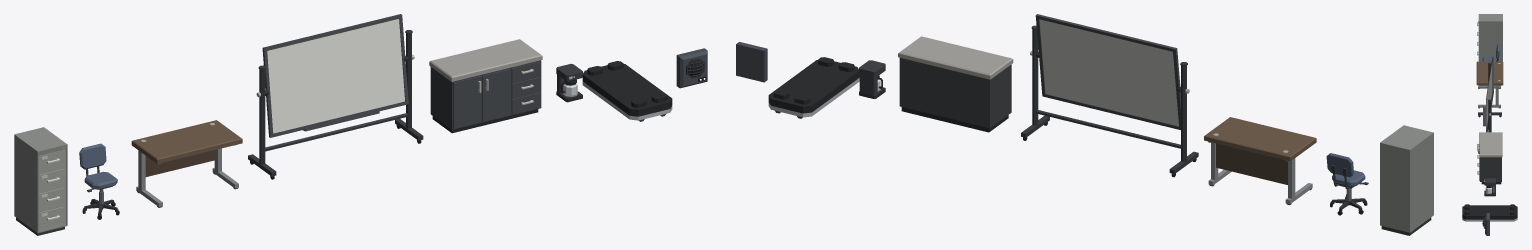
The model's file is OfficeFurniture.fbx.
3 renders of one model, left to right at view 1: azimuth 30°, elevation 25°; view 2: azimuth 150°, elevation 25°; view 3: azimuth 270°, elevation 25°, orthographic. The views are drawn at different scales.
Parts seen in each view (by area): view 1: Whiteboard_Board, OfficeCounter_Doors, FilingCabinet_Carcass, TubeLight_Housing, OfficeDesk_Top, OfficeCounter_Top, Whiteboard_Stand, Whiteboard_Frame, OfficeCounter_Carcass, OfficeChair_Pad, OfficeDesk_Modesty, OfficeDesk_Frame (+8 smaller); view 2: Whiteboard_Board, OfficeCounter_Carcass, FilingCabinet_Carcass, TubeLight_Housing, OfficeDesk_Top, OfficeCounter_Top, Whiteboard_Stand, Whiteboard_Frame, OfficeDesk_Modesty, WallSpeaker_Body, OfficeDesk_Frame, OfficeChair_Pad (+3 smaller); view 3: FilingCabinet_Carcass, TubeLight_Housing, OfficeCounter_Top, OfficeDesk_Top, OfficeCounter_Carcass, Whiteboard_Frame, Whiteboard_Stand, Whiteboard_Board, OfficeDesk_Frame, TubeLight_Tray, CoffeeMachine_Body, OfficeChair_Pad (+4 smaller).
Boxes of the visible parts, bbox=[...] form: Whiteboard_Board: bbox=[267, 19, 404, 133]; OfficeCounter_Doors: bbox=[453, 61, 540, 128]; FilingCabinet_Carcass: bbox=[14, 127, 67, 232]; TubeLight_Housing: bbox=[582, 61, 672, 116]; OfficeDesk_Top: bbox=[131, 120, 242, 163]; OfficeCounter_Top: bbox=[429, 39, 542, 81]; Whiteboard_Stand: bbox=[248, 30, 423, 176]; Whiteboard_Frame: bbox=[262, 14, 408, 137]; OfficeCounter_Carcass: bbox=[430, 60, 541, 129]; OfficeChair_Pad: bbox=[79, 143, 117, 189]; OfficeDesk_Modesty: bbox=[145, 149, 216, 176]; OfficeDesk_Frame: bbox=[136, 144, 238, 206]; Whiteboard_Board: bbox=[1039, 19, 1178, 126]; OfficeCounter_Carcass: bbox=[899, 58, 1011, 128]; FilingCabinet_Carcass: bbox=[1380, 125, 1433, 232]; TubeLight_Housing: bbox=[768, 57, 859, 113]; OfficeDesk_Top: bbox=[1204, 117, 1316, 161]; OfficeCounter_Top: bbox=[898, 36, 1013, 79]; Whiteboard_Stand: bbox=[1021, 25, 1198, 174]; Whiteboard_Frame: bbox=[1035, 14, 1180, 129]; OfficeDesk_Modesty: bbox=[1216, 143, 1287, 184]; WallSpeaker_Body: bbox=[736, 42, 767, 82]; OfficeDesk_Frame: bbox=[1208, 141, 1312, 204]; OfficeChair_Pad: bbox=[1326, 153, 1365, 186]; FilingCabinet_Carcass: bbox=[1478, 14, 1502, 61]; TubeLight_Housing: bbox=[1462, 204, 1517, 219]; OfficeCounter_Top: bbox=[1479, 132, 1502, 157]; OfficeDesk_Top: bbox=[1476, 61, 1503, 85]; OfficeCounter_Carcass: bbox=[1480, 157, 1501, 181]; Whiteboard_Frame: bbox=[1483, 56, 1493, 132]; Whiteboard_Stand: bbox=[1478, 62, 1501, 152]; Whiteboard_Board: bbox=[1486, 63, 1492, 126]; OfficeDesk_Frame: bbox=[1478, 85, 1501, 107]; TubeLight_Tray: bbox=[1462, 218, 1517, 221]; CoffeeMachine_Body: bbox=[1484, 178, 1495, 194]; OfficeChair_Pad: bbox=[1482, 43, 1499, 61].
Bounding box in the file's own units: 3648 × 712 × 500.
